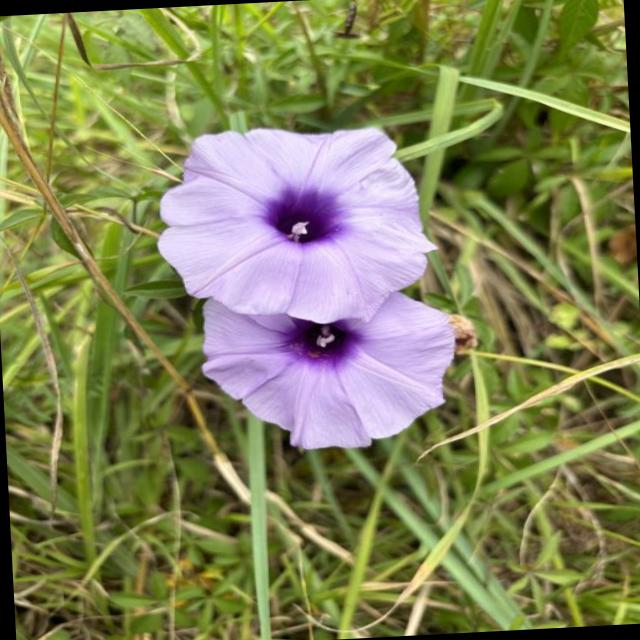ipomoea: (148, 117, 444, 336), (193, 282, 465, 460)
